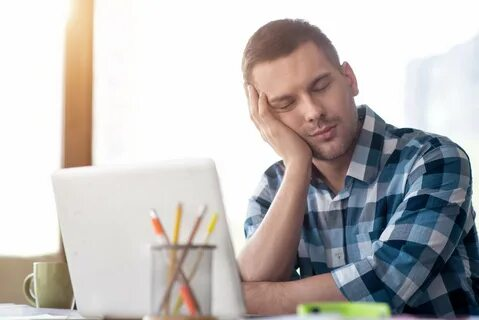sleep: (235, 17, 479, 319)
